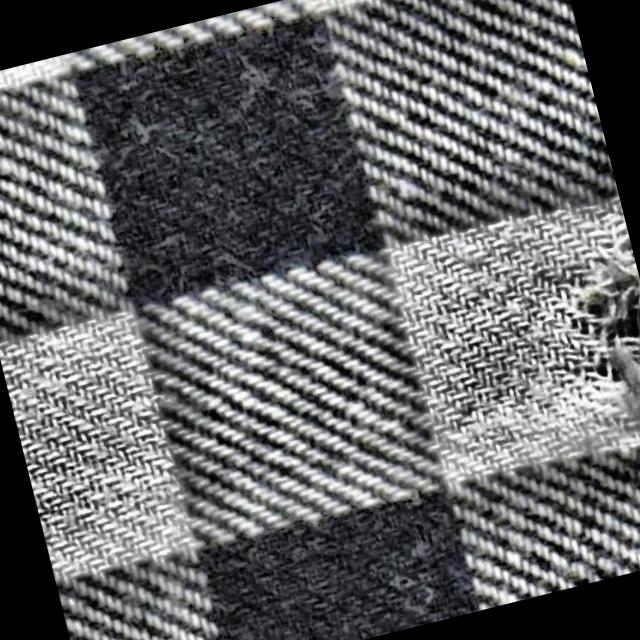gray stitch: (537, 210, 640, 470)
